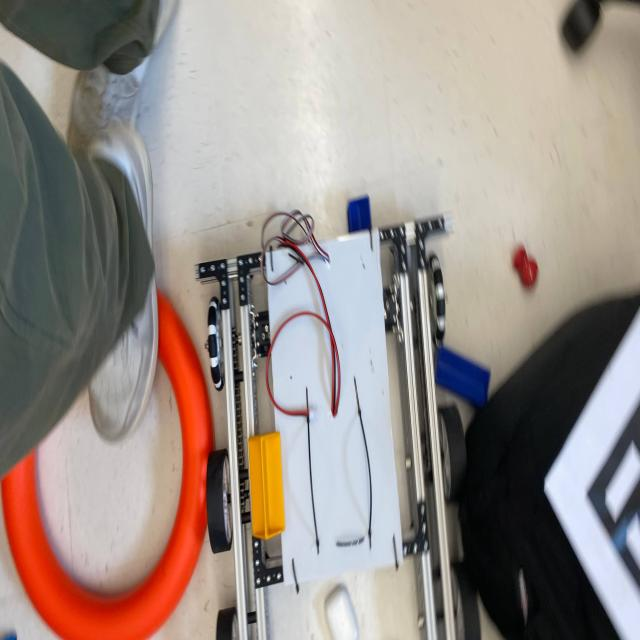blue-specimen: (436, 347, 490, 408), (347, 194, 371, 232)
yellow-specimen: (248, 432, 285, 540)
